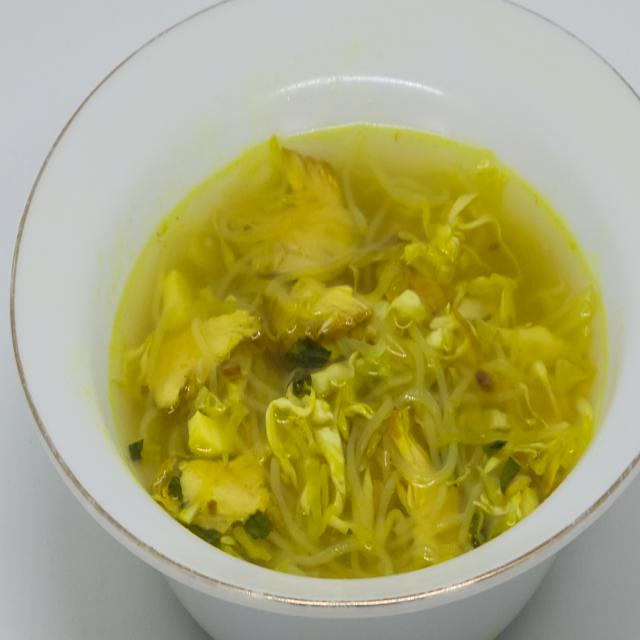Soto-Lamongan: (94, 64, 617, 602)
